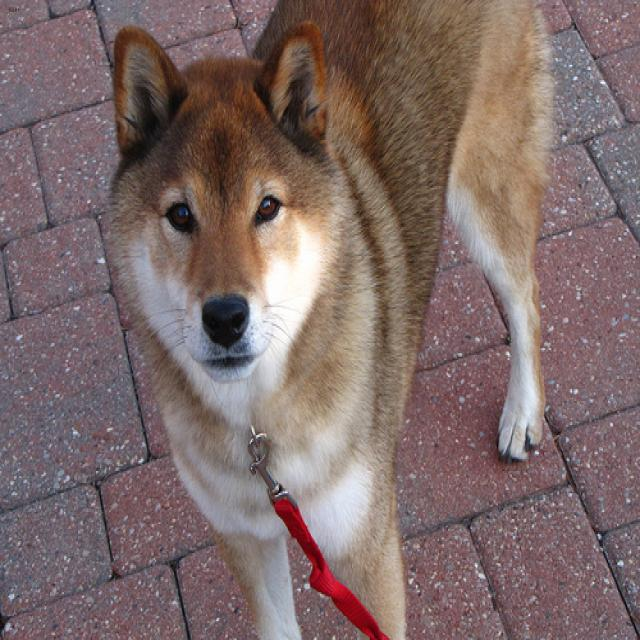dog-shiba_inu: (100, 2, 563, 637)
